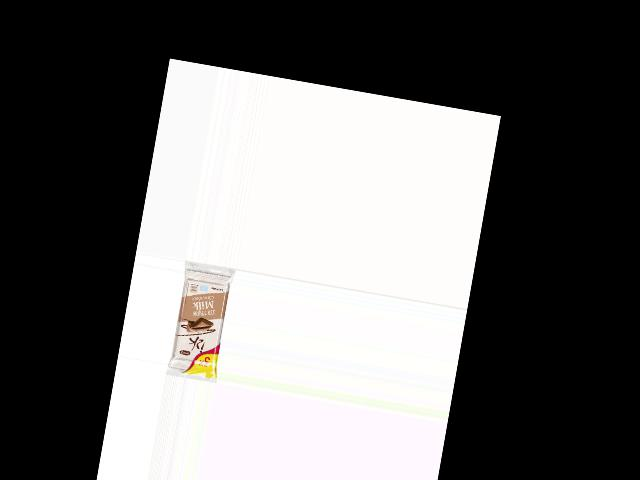chocolate: (164, 270, 233, 383)
